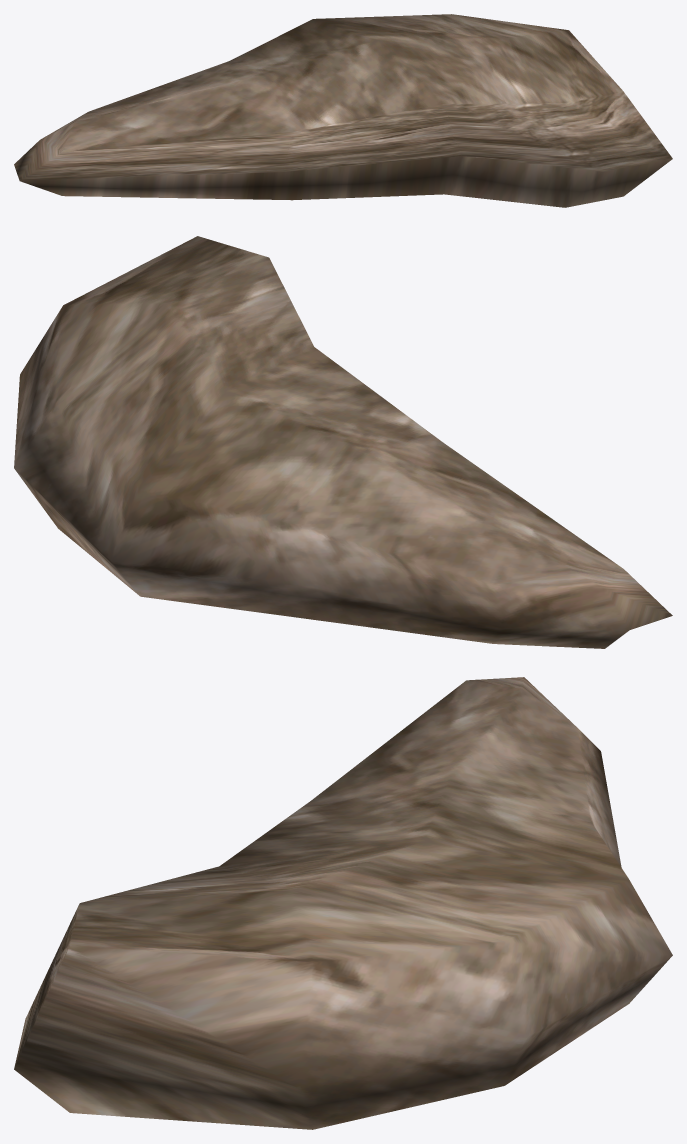
The model's file is OVERHILL_A_01_LINE343.fbx.
The picture shows the model from 3 angles, top to bottom: view 1: azimuth 30°, elevation 25°; view 2: azimuth 150°, elevation 25°; view 3: azimuth 270°, elevation 25°; orthographic projection. The views are drawn at different scales.
Parts seen in each view (by area): view 1: OVERHILL_A_01_LINE343; view 2: OVERHILL_A_01_LINE343; view 3: OVERHILL_A_01_LINE343.
Boxes of the visible parts, box(x1,y1,x2,y2) form: OVERHILL_A_01_LINE343: box(14, 14, 672, 207); OVERHILL_A_01_LINE343: box(14, 236, 672, 648); OVERHILL_A_01_LINE343: box(14, 677, 672, 1129).
Size of the model in its own units: 59355 by 12546 by 40020.
Materials: 1 (1 with a texture image).
